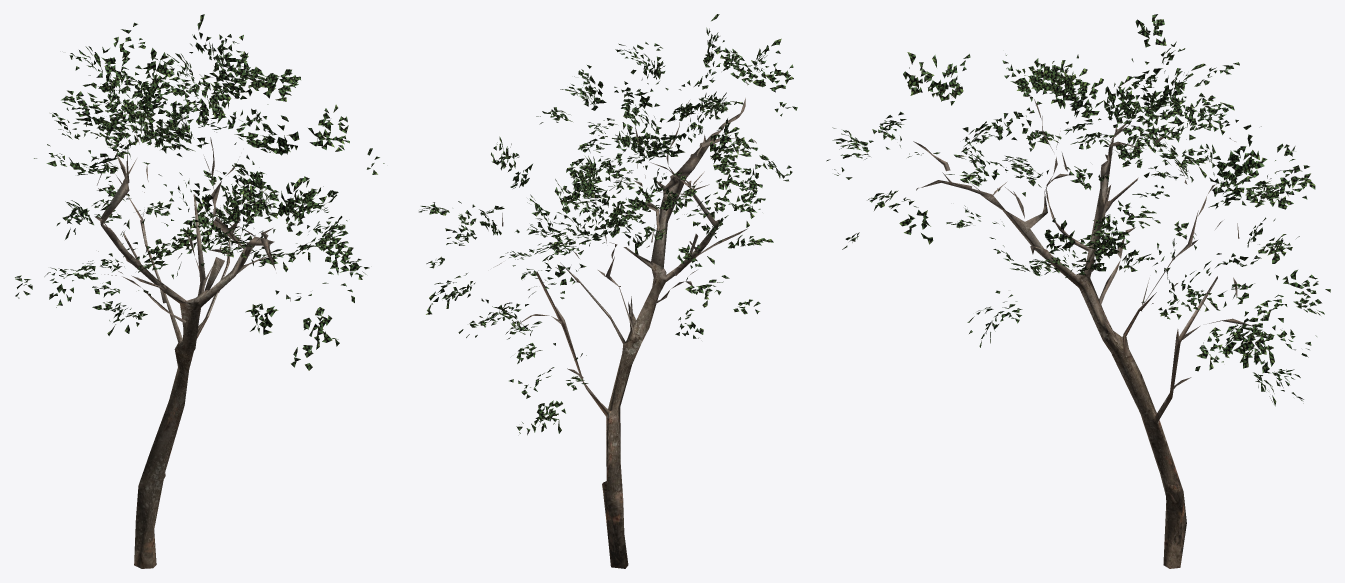
File: tree_small_02-lod.glb
3 renders of one model, left to right at view 1: azimuth 30°, elevation 25°; view 2: azimuth 150°, elevation 25°; view 3: azimuth 270°, elevation 25°, orthographic. The views are drawn at different scales.
Visible parts, largest first — view 1: tree_small_02_LOD0; view 2: tree_small_02_LOD0; view 3: tree_small_02_LOD0.
Part boxes in pixels (x1=…): tree_small_02_LOD0: x1=15, y1=14, x2=384, y2=568; tree_small_02_LOD0: x1=419, y1=14, x2=797, y2=568; tree_small_02_LOD0: x1=826, y1=14, x2=1330, y2=568.
Bounding box in the file's own units: 2.84 × 4.5 × 3.99.
Materials: 3 (3 with a texture image).
